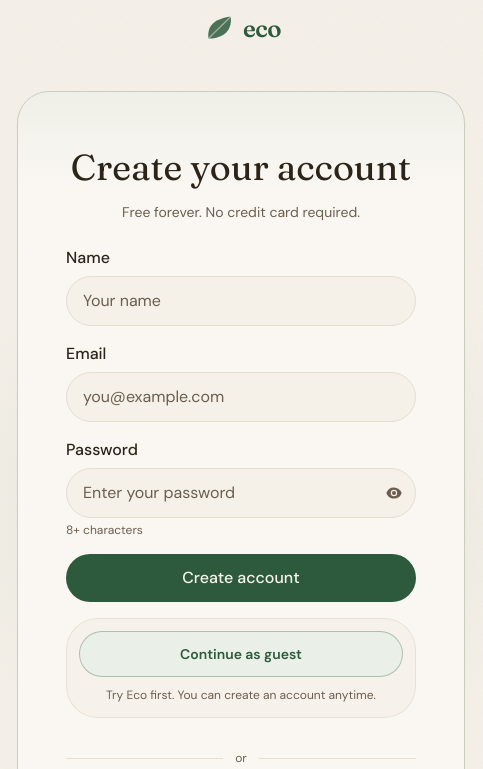
Test: SignUpPage › shows an inline short-password error and focuses the password field
The width and height of the screenshot is (483, 769).
Type "Eco Tester" into the field labelled "Name" at coordinates (241, 301), box 66,276 -> 416,326
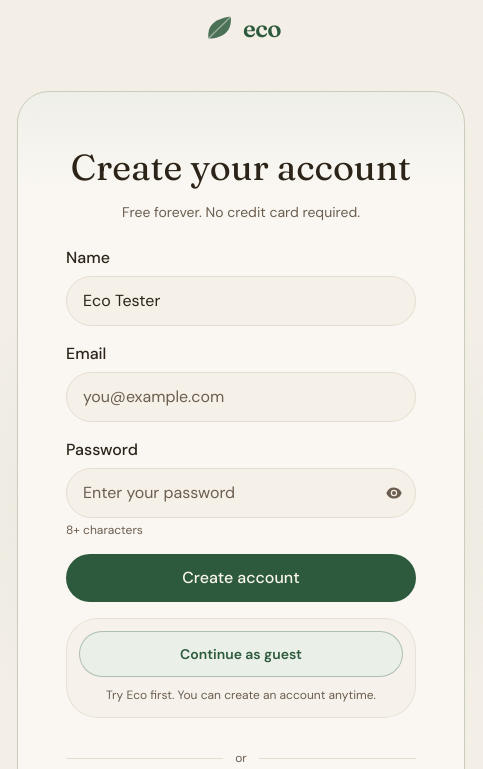
Type "eco@example.com" into the field labelled "Email" at coordinates (241, 397), box 66,372 -> 416,422
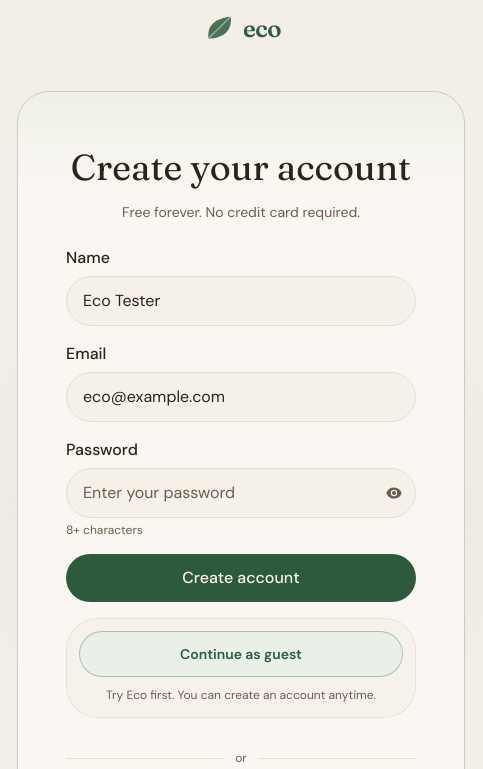
Type "short" into the password field labelled "Password" at coordinates (241, 493), box 66,468 -> 416,518
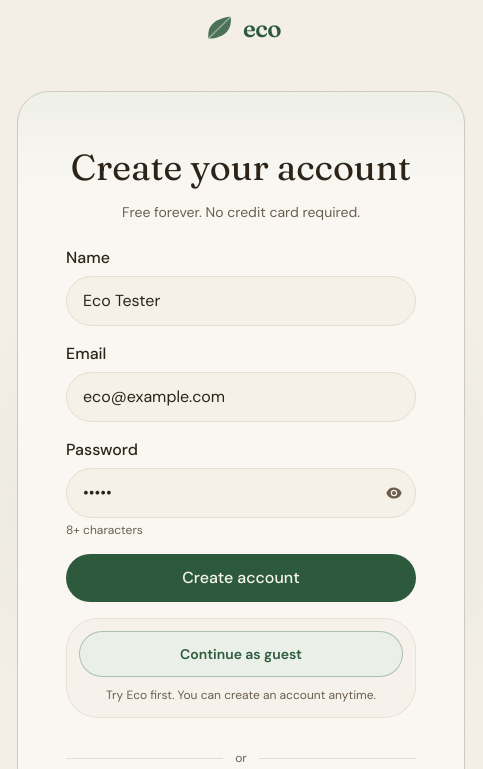
Click the button "Create account" at coordinates (241, 578), box 66,554 -> 416,602
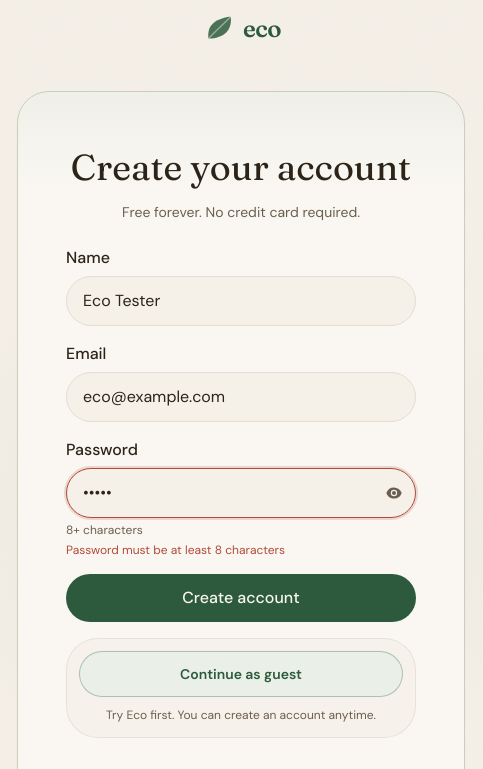
Expected: the text "Password must be at least 8 characters" is shown, 66,542 -> 285,558
